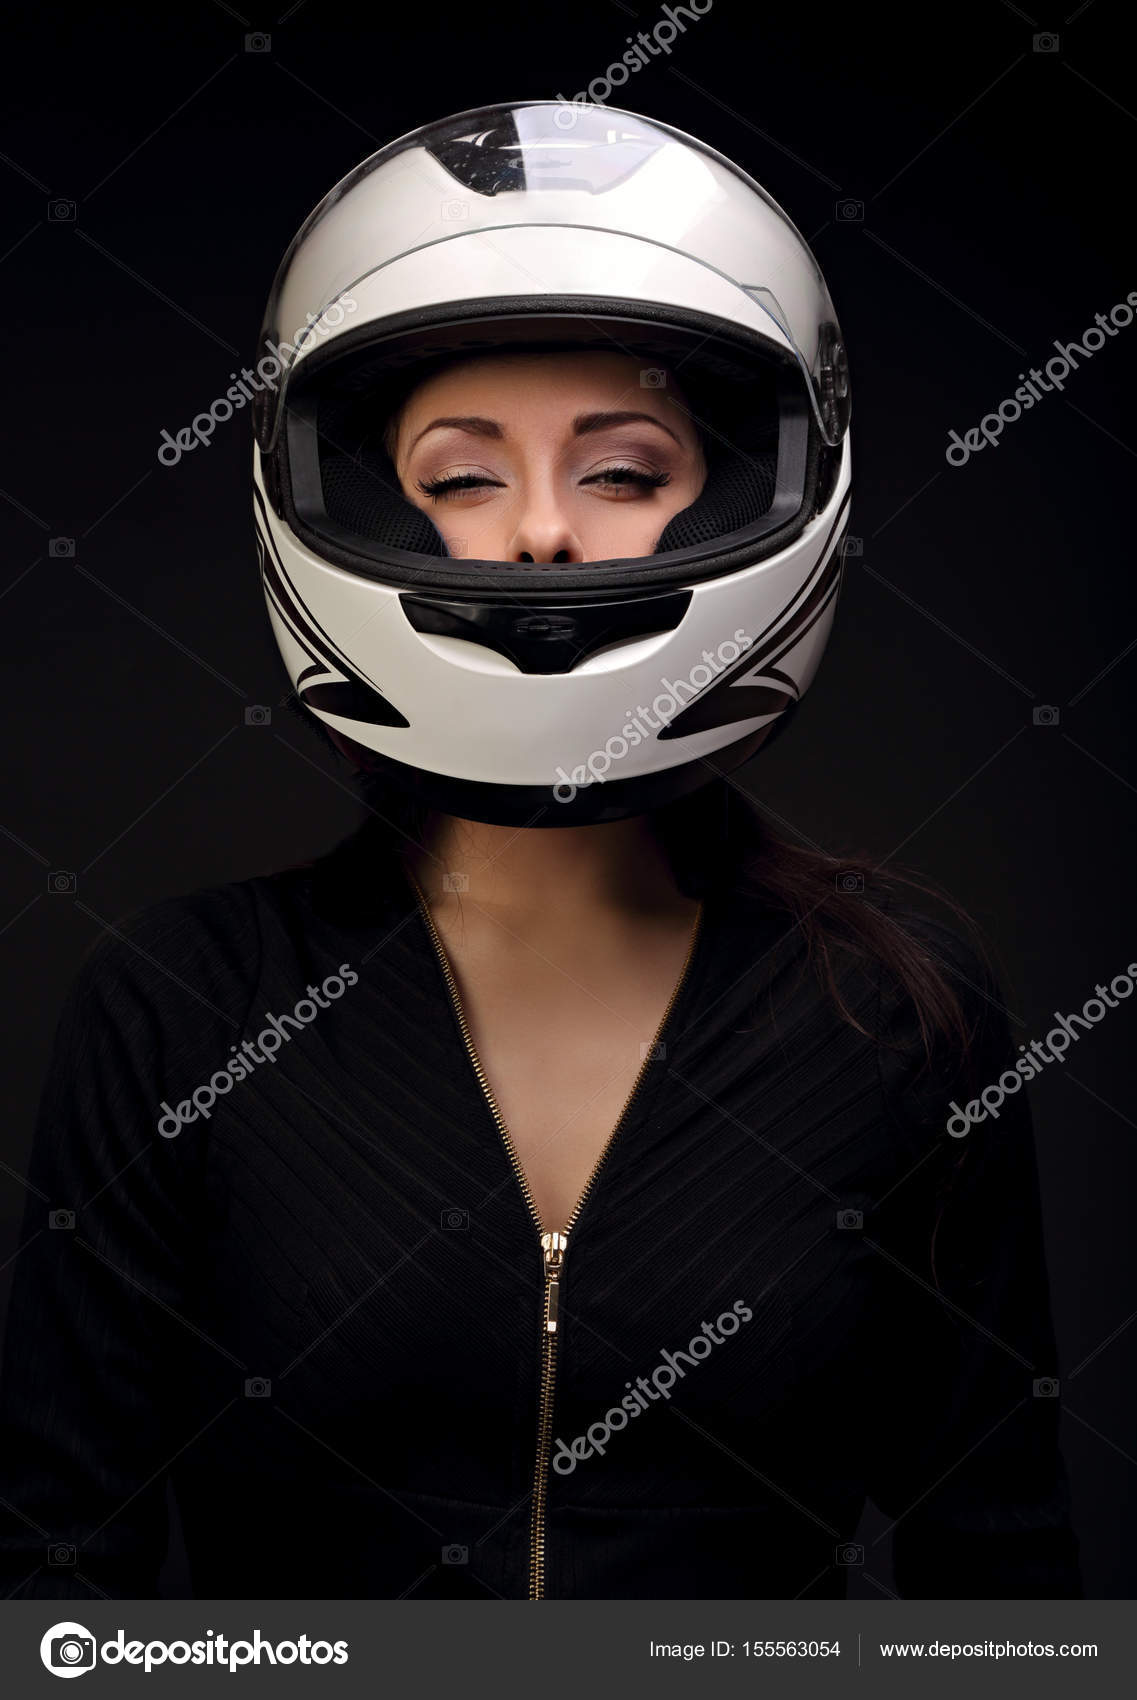helmet: (246, 159, 876, 740)
